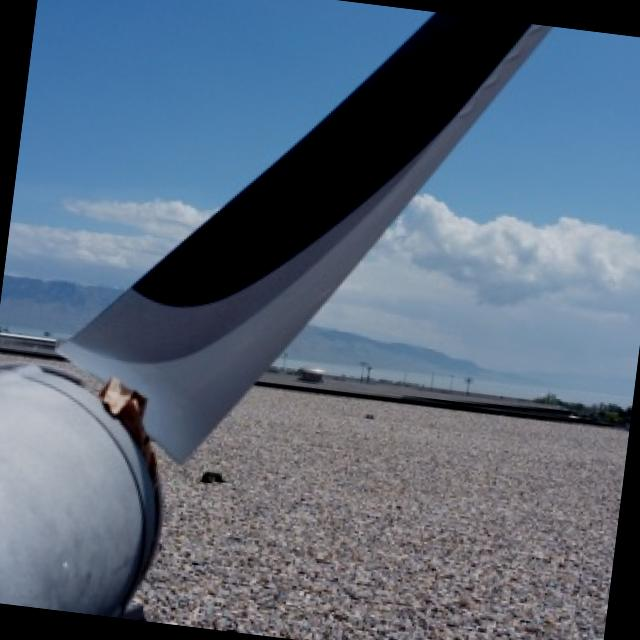healthy: (0, 12, 550, 616)
